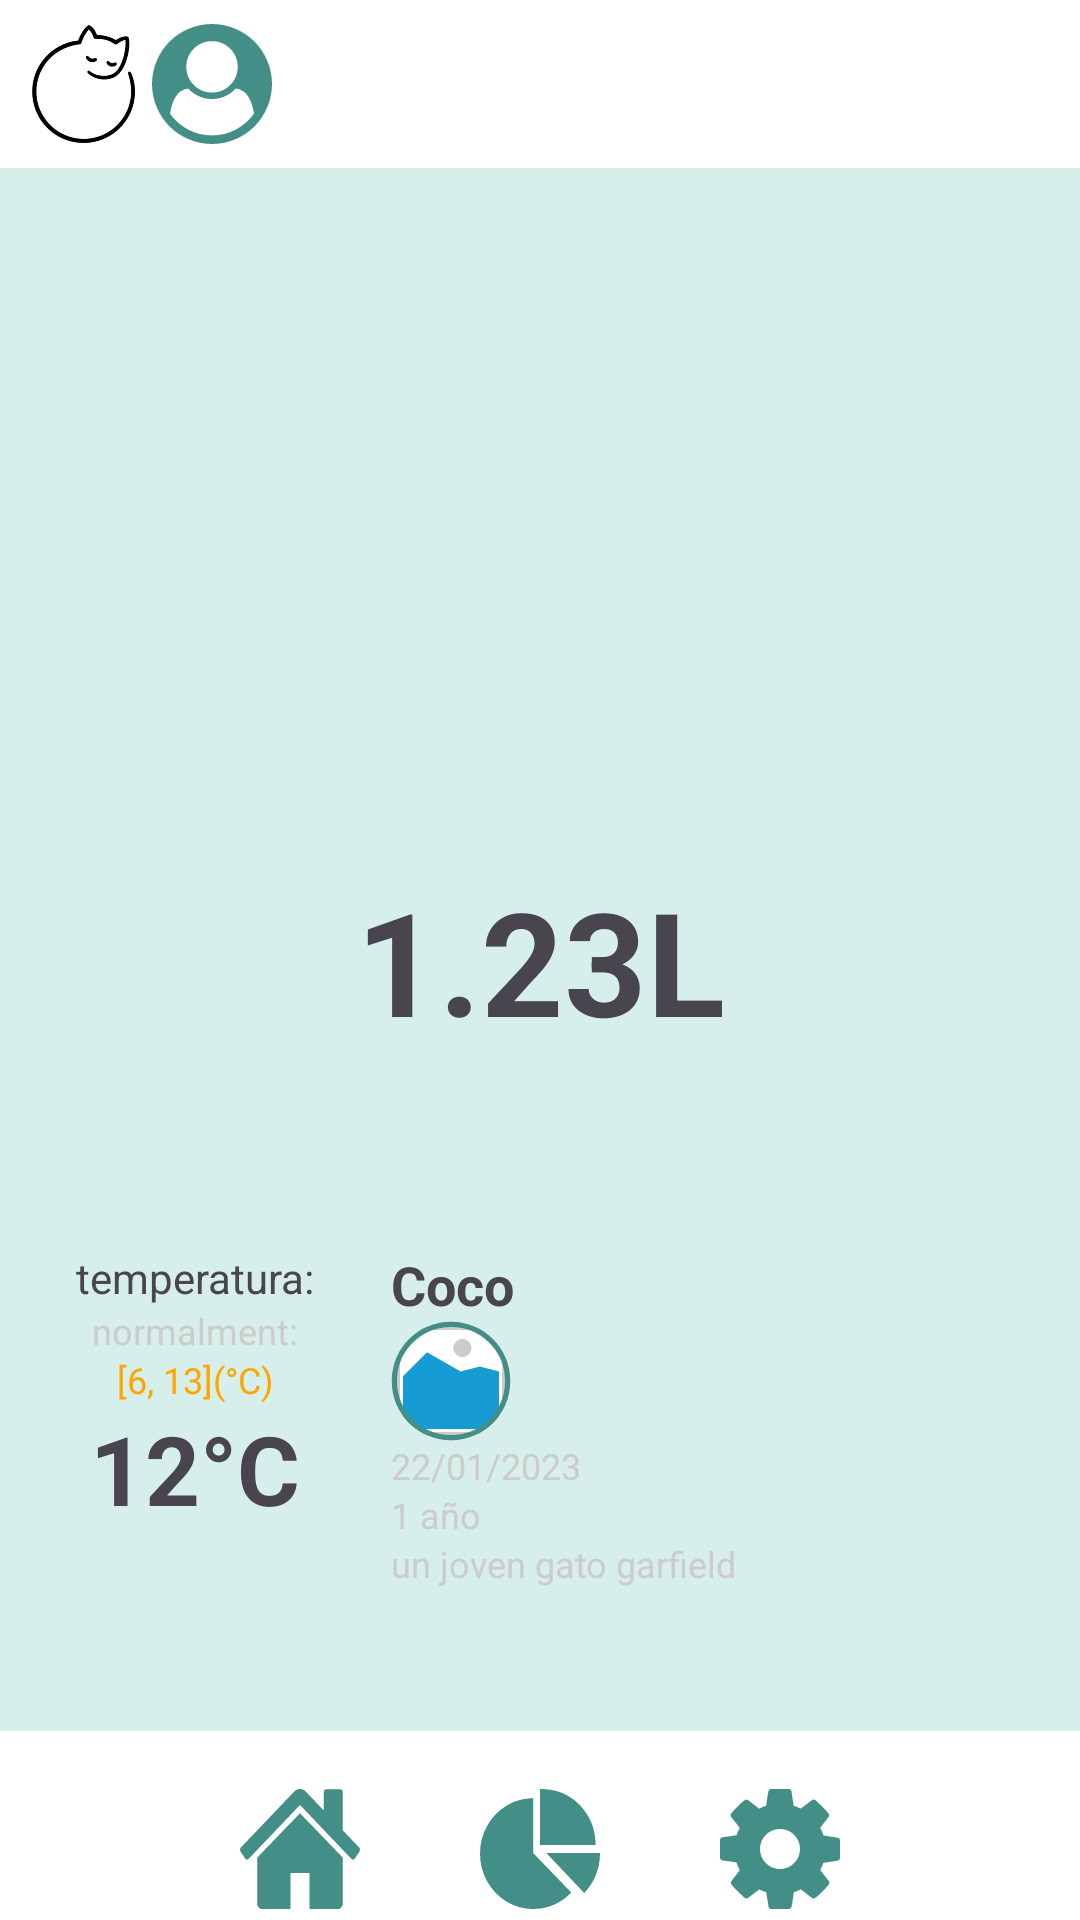

Icon click points for this 1080px x 1920px phone screenshot, format (x=x, y=y):
Home Icon Description: (x=300, y=1849)
Settings Icon: (x=780, y=1849)
Statistics Icon Description: (x=540, y=1849)
User Icon: (x=212, y=84)
